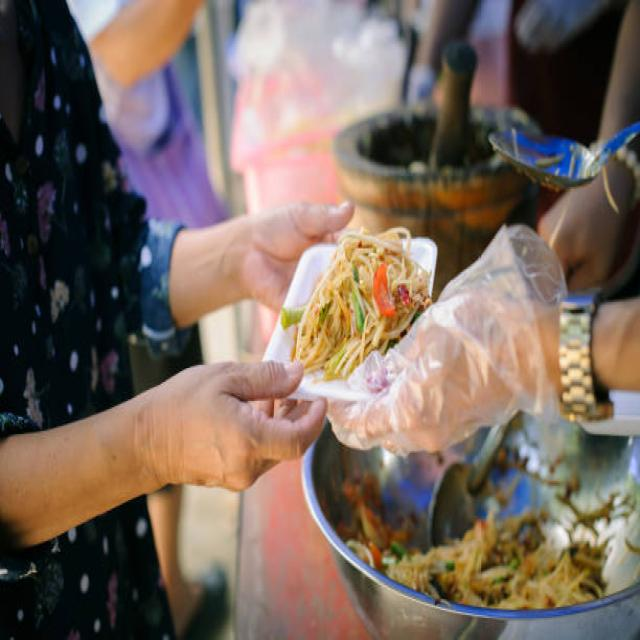Emperan: (37, 89, 640, 640)
